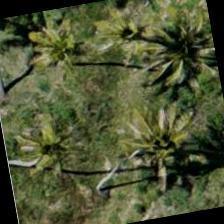Kelapa_Sawit: (116, 97, 220, 201), (126, 7, 222, 110)
